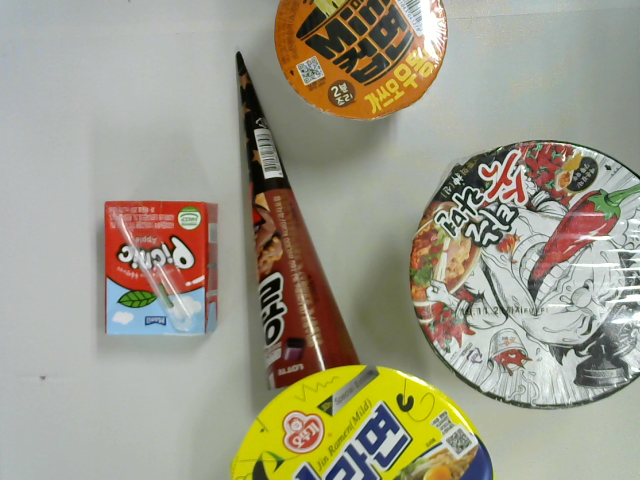HeJangsock: (409, 135, 640, 412)
Jinlamyeon_Mild_Taste_Large_Cup: (228, 366, 509, 480)
Picnic_Apple: (99, 192, 228, 344)
Udongmini: (270, 1, 452, 122)
World_Cone_Choco: (226, 44, 390, 401)
